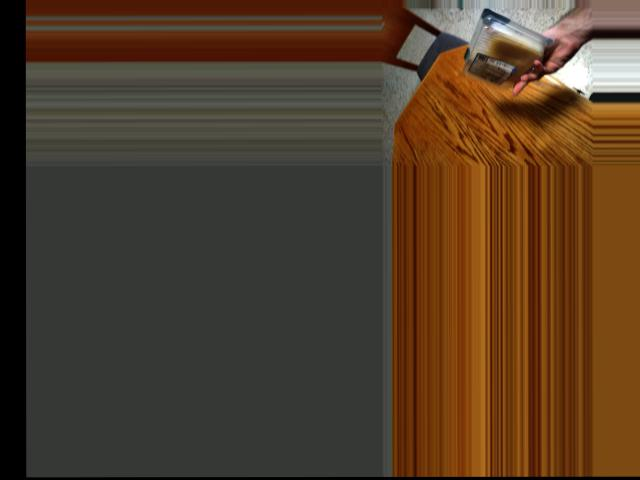cheese: (462, 20, 546, 80)
